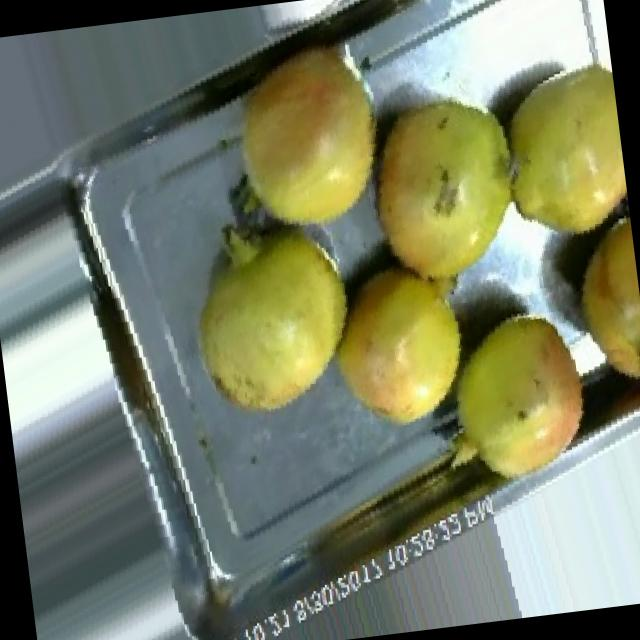fruit: (154, 188, 386, 444), (182, 22, 412, 269), (340, 67, 552, 314), (426, 282, 614, 504), (306, 234, 492, 449), (478, 42, 634, 263), (548, 199, 640, 418)
